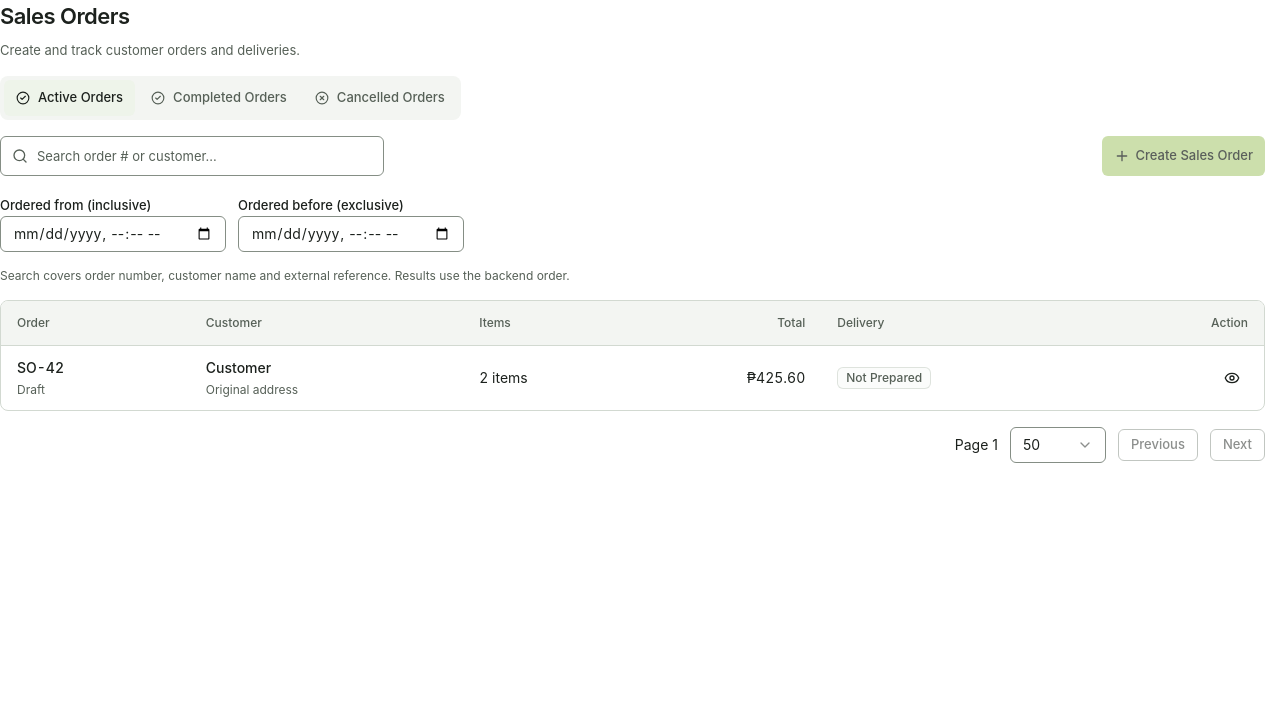
Test: sales draft integration › does not expose draft editing to staff
Click the button named "View sales order SO-42": coordinates (1232, 378) [1216,362,1248,394]
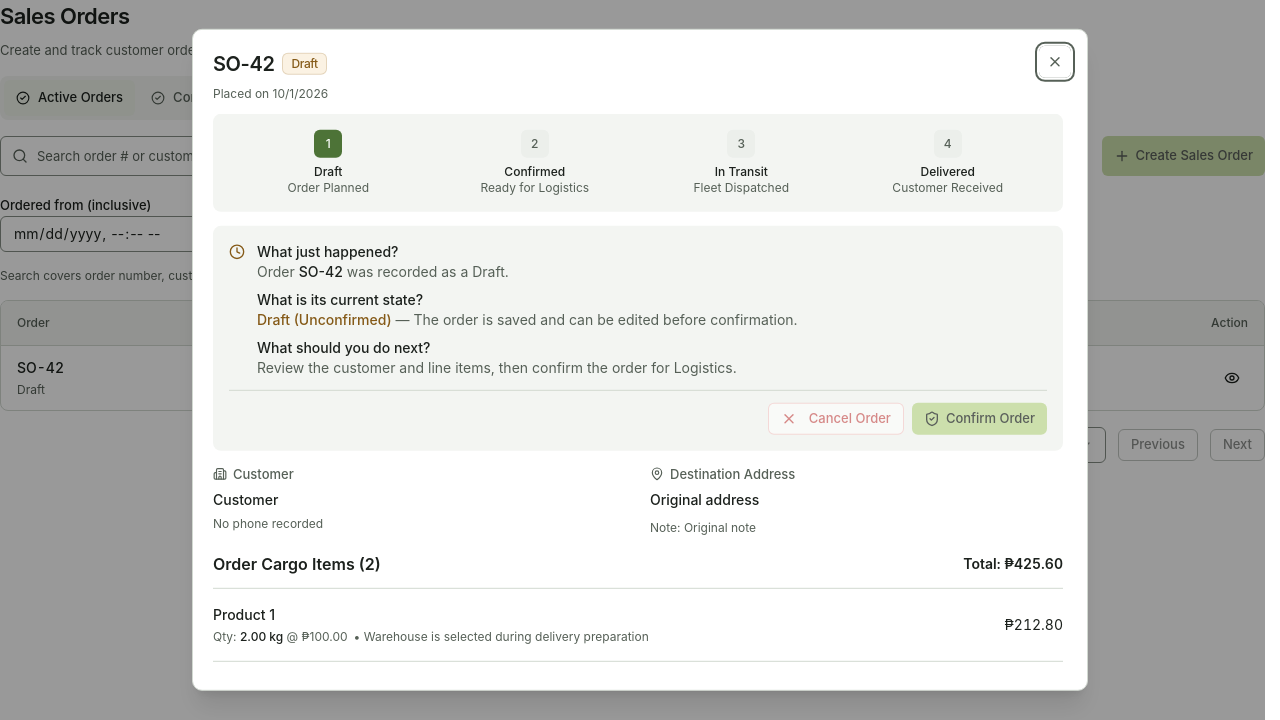
Expected: the dialog "SO-42" is shown
Expected: the text "Product 1" is shown, [213,605,275,622]
